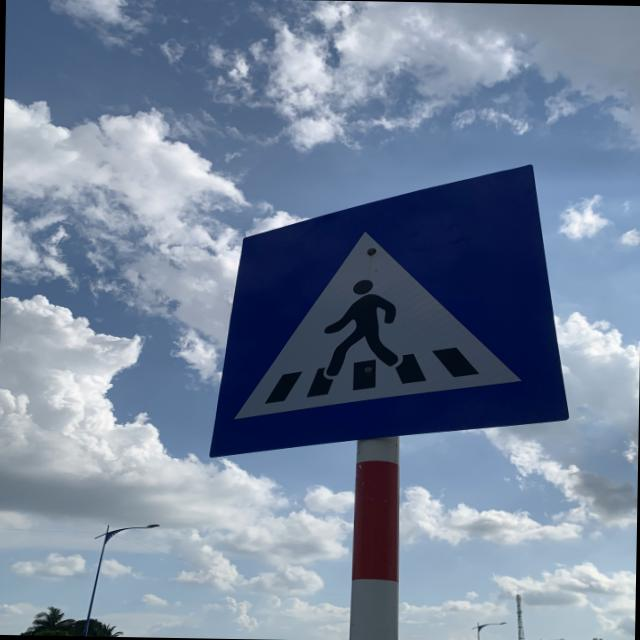Giao_Nhau_Duong_Uu_Tien: (209, 159, 571, 464)
